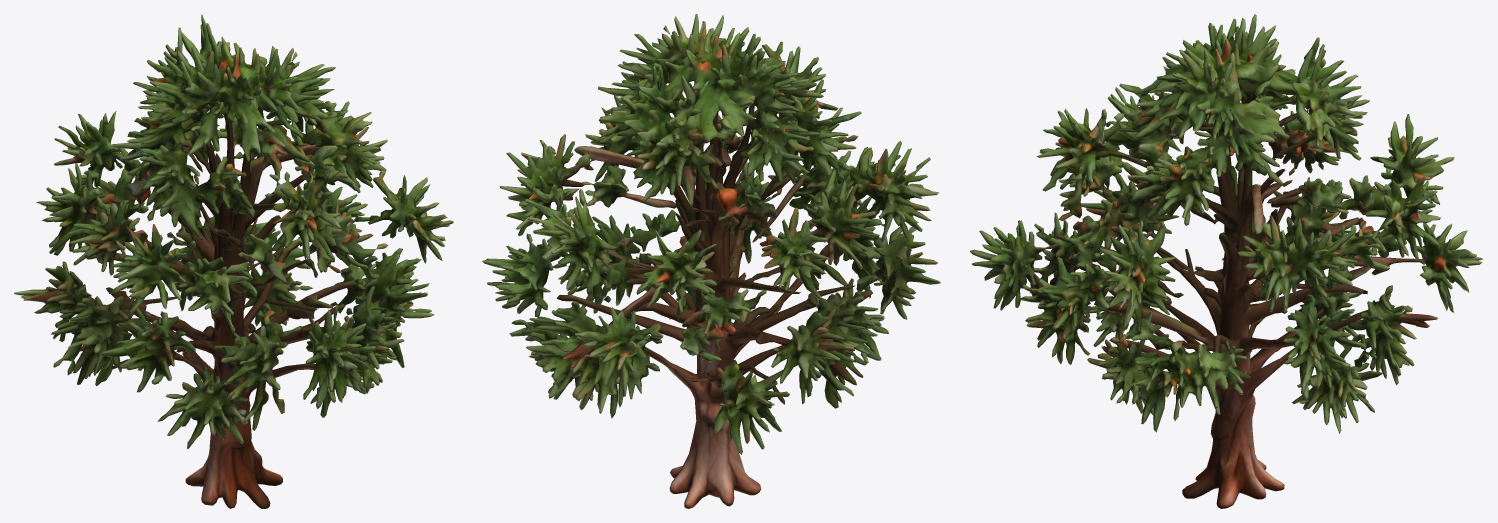
Rendered from nature-tree-chestnut.glb.
The picture shows the model from 3 angles, left to right: view 1: azimuth 30°, elevation 25°; view 2: azimuth 150°, elevation 25°; view 3: azimuth 270°, elevation 25°; orthographic projection. The views are drawn at different scales.
Parts seen in each view (by area): view 1: tripo_node_e74d6e6b-0b70-4998-9ce3-4176d3ec8d5c; view 2: tripo_node_e74d6e6b-0b70-4998-9ce3-4176d3ec8d5c; view 3: tripo_node_e74d6e6b-0b70-4998-9ce3-4176d3ec8d5c.
Part boxes in pixels (box(x1,y1,x2,y2)): tripo_node_e74d6e6b-0b70-4998-9ce3-4176d3ec8d5c: box(14, 14, 453, 508); tripo_node_e74d6e6b-0b70-4998-9ce3-4176d3ec8d5c: box(482, 14, 940, 508); tripo_node_e74d6e6b-0b70-4998-9ce3-4176d3ec8d5c: box(970, 14, 1482, 508).
Bounding box in the file's own units: 8.27 × 10 × 10.16.
Materials: 1 (1 with a texture image).
